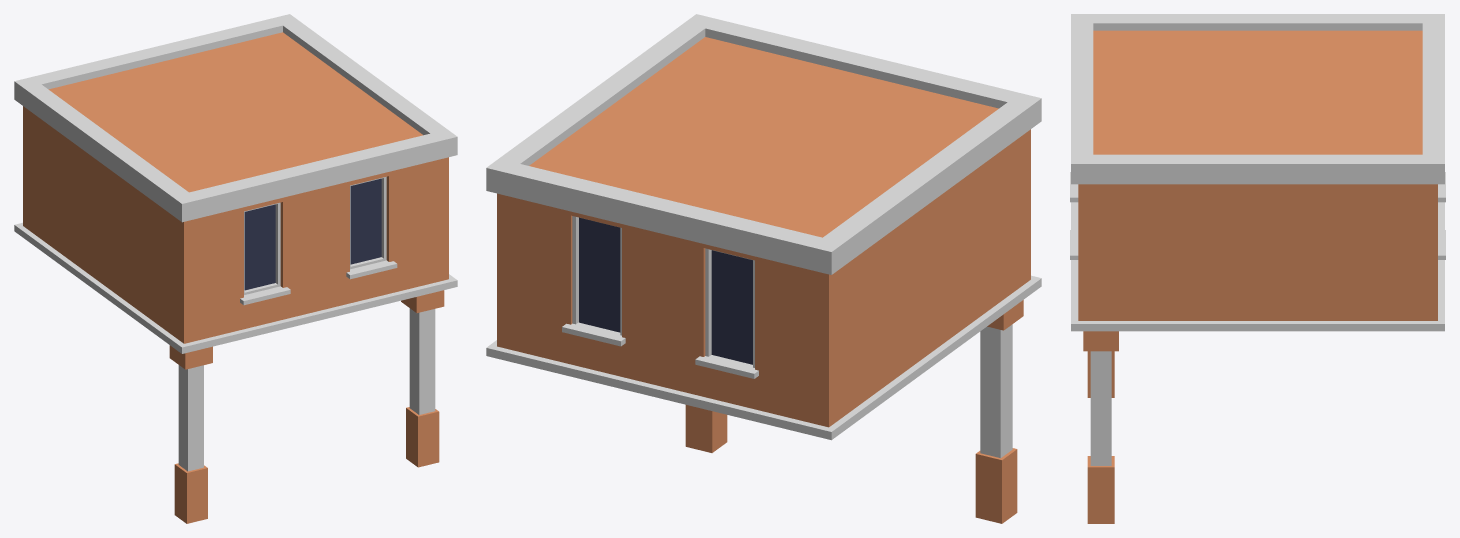
File: Lowrise_Addon.fbx
3 views of the same model, side by side, from view 1: azimuth 30°, elevation 25°; view 2: azimuth 150°, elevation 25°; view 3: azimuth 270°, elevation 25° (orthographic). The views are drawn at different scales.
Parts seen in each view (by area): view 1: House_Addon; view 2: House_Addon; view 3: House_Addon.
Boxes of the visible parts, box(x1,y1,x2,y2) form: House_Addon: box(14, 14, 457, 523); House_Addon: box(486, 14, 1041, 523); House_Addon: box(1070, 14, 1445, 523).
Size of the model in its own units: 7.74 by 8.82 by 8.2.
